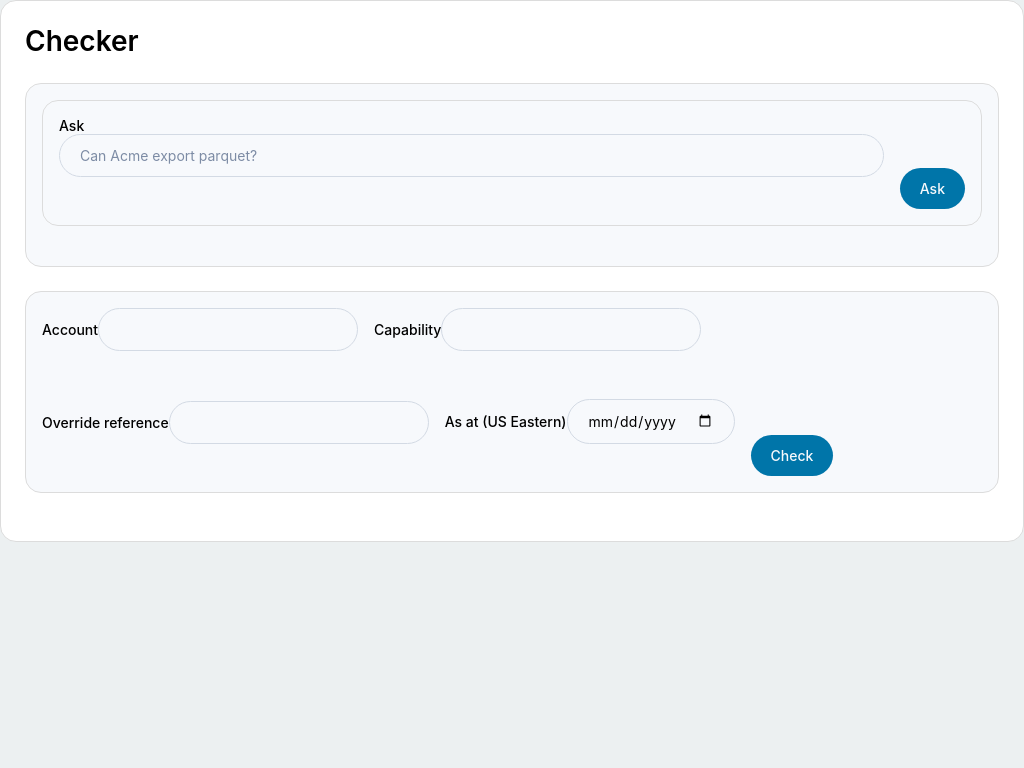
Test: 002 — the past on screen 4 › states a retirement that happened after the date asked about (c28)
Type "acct_9931" into the field labelled "Account" at (228, 329), box [98, 308, 358, 351]
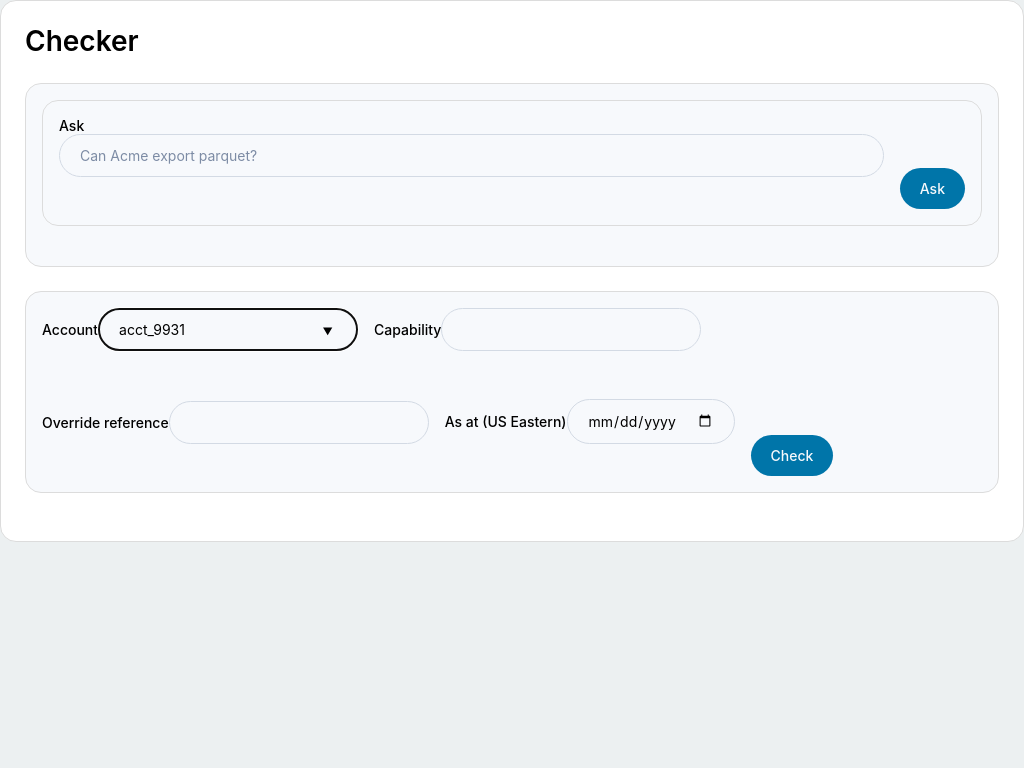
Type "reports.monthly" into the field labelled "Capability" at (571, 329), box [441, 308, 701, 351]
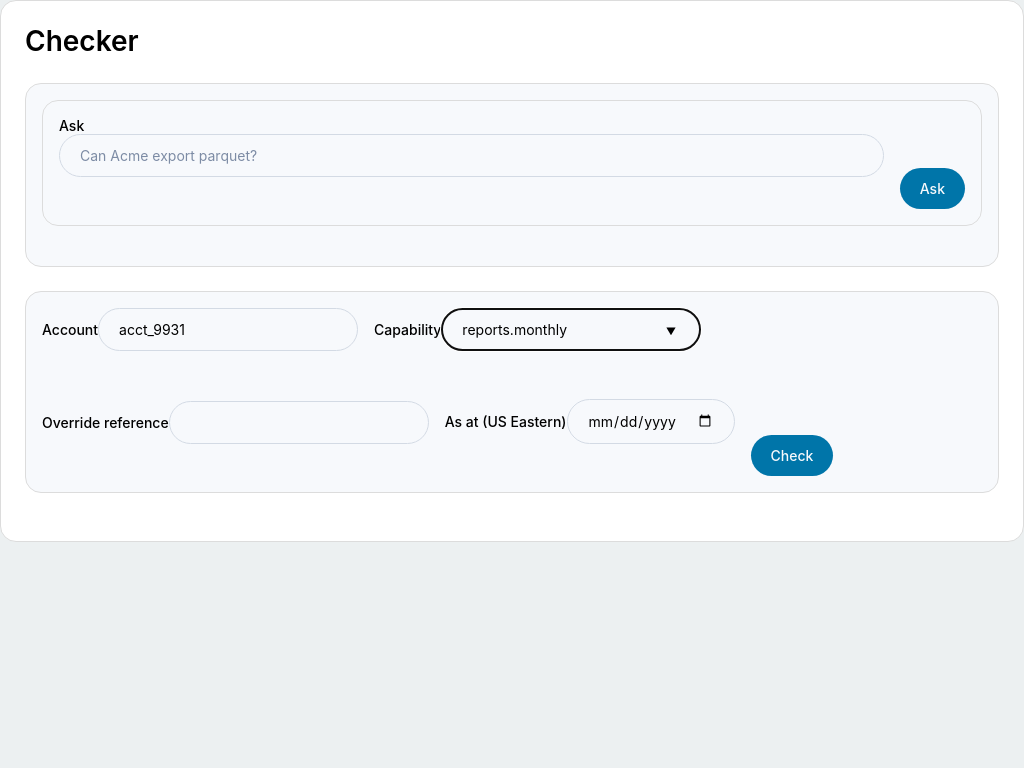
Click the button "Check" at (792, 455), box [750, 435, 833, 476]
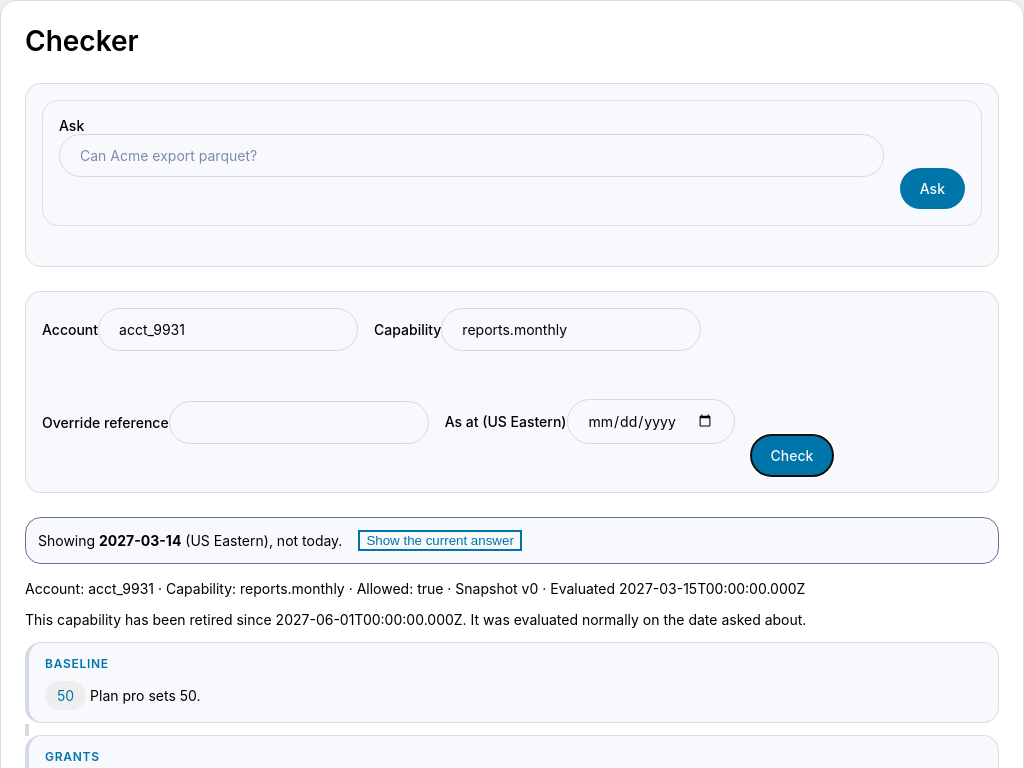
Expected: the text "has been retired since" is shown, [25, 611, 276, 628]
